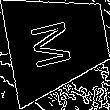M_E: (32, 15, 83, 71)
